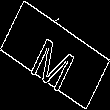M_NE: (28, 22, 82, 88)
